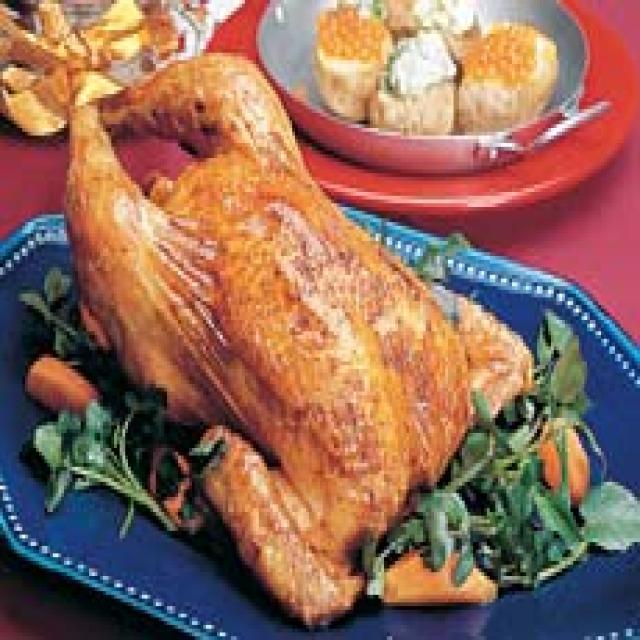Chicken: (55, 44, 463, 578)
